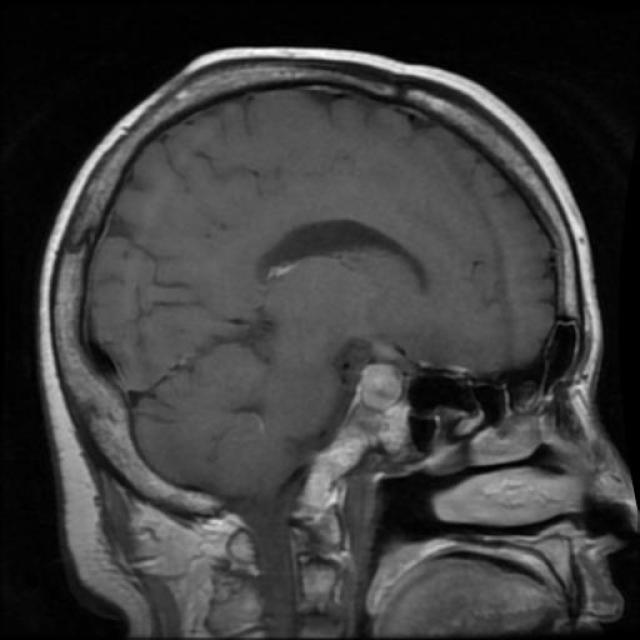pituitary: (346, 342, 417, 461)
